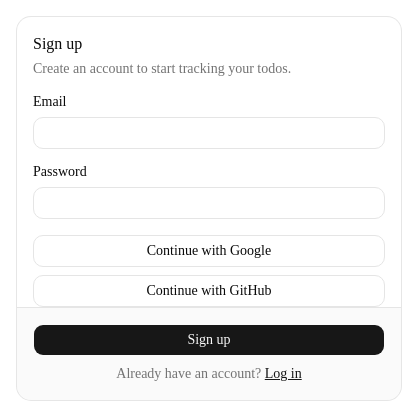
Test: SignupPage › after signup success, shows check-your-email confirmation message
The width and height of the screenshot is (419, 418).
Type "test@example.com" into the field labelled "Email" at (209, 132), box [33,116,385,148]
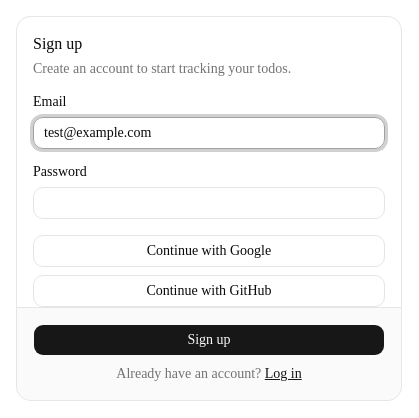
Type "password123" into the password field labelled "Password" at (209, 202), box [33,186,385,218]
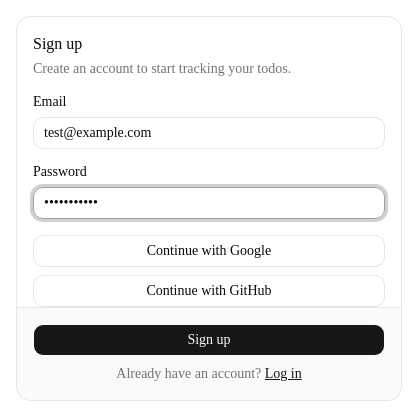
Click the button "Sign up" at (209, 340), box [33,324,385,356]
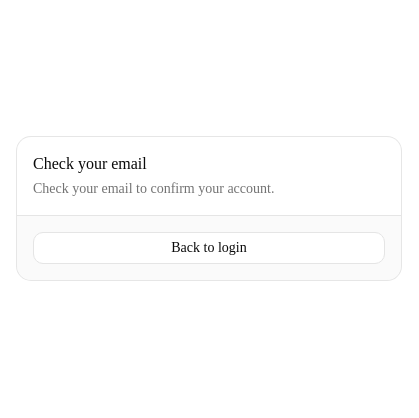
Expected: the text "Check your email to confirm your account." is shown, [33,180,274,196]
